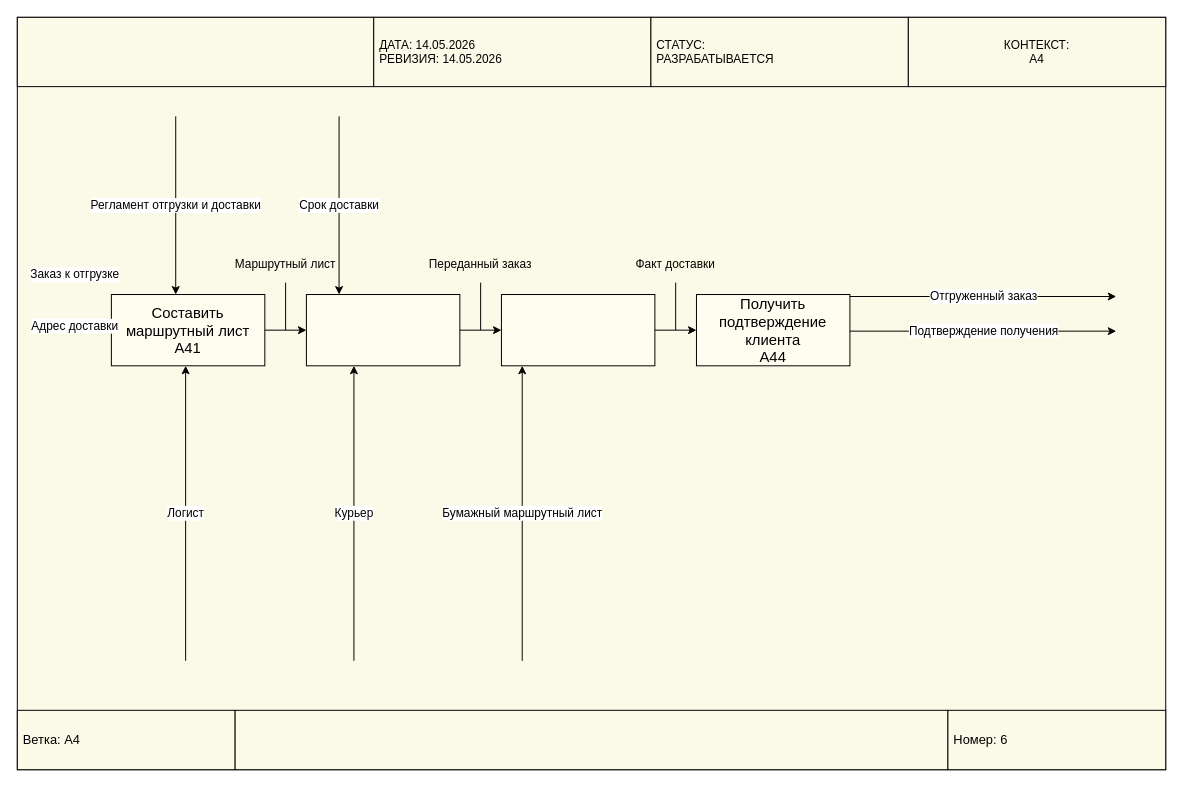
This 1183x787 diagram has some shape labels left out. Each missing label, with the centre of its shape:
"АВТОР: Анастасия Лепилина ПРОЕКТ: ArtCulinaryCRM" belongs at point (195, 51).
"Доставить заказ клиенту A43" belongs at point (577, 330).
"Название: Передать заказ клиенту" belongs at point (591, 739).
"Передать заказ курьеру A42" belongs at point (382, 330).
